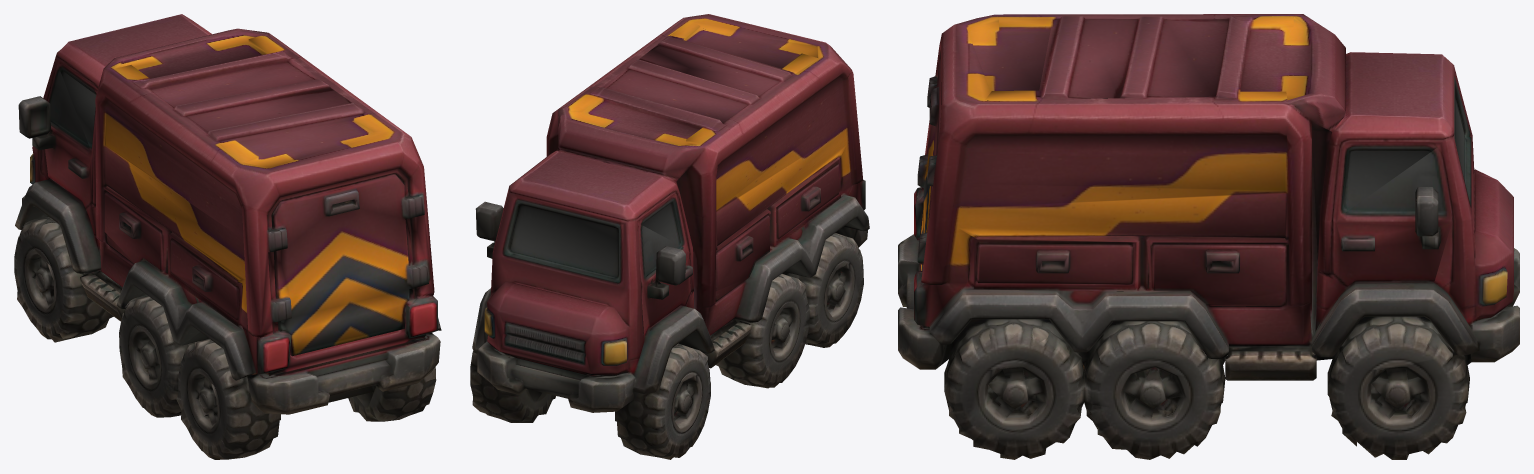
File: LL_RhinoAPC.fbx
3 views of the same model, side by side, from view 1: azimuth 30°, elevation 25°; view 2: azimuth 150°, elevation 25°; view 3: azimuth 270°, elevation 25° (orthographic). The views are drawn at different scales.
Visible parts, largest first — view 1: tripo_node_1f4de806; view 2: tripo_node_1f4de806; view 3: tripo_node_1f4de806.
Part boxes in pixels (x1=…): tripo_node_1f4de806: x1=14, y1=14, x2=441, y2=459; tripo_node_1f4de806: x1=470, y1=14, x2=869, y2=459; tripo_node_1f4de806: x1=898, y1=14, x2=1519, y2=459.
Bounding box in the file's own units: 46.46 × 97.7 × 60.99.
Materials: 1 (1 with a texture image).
